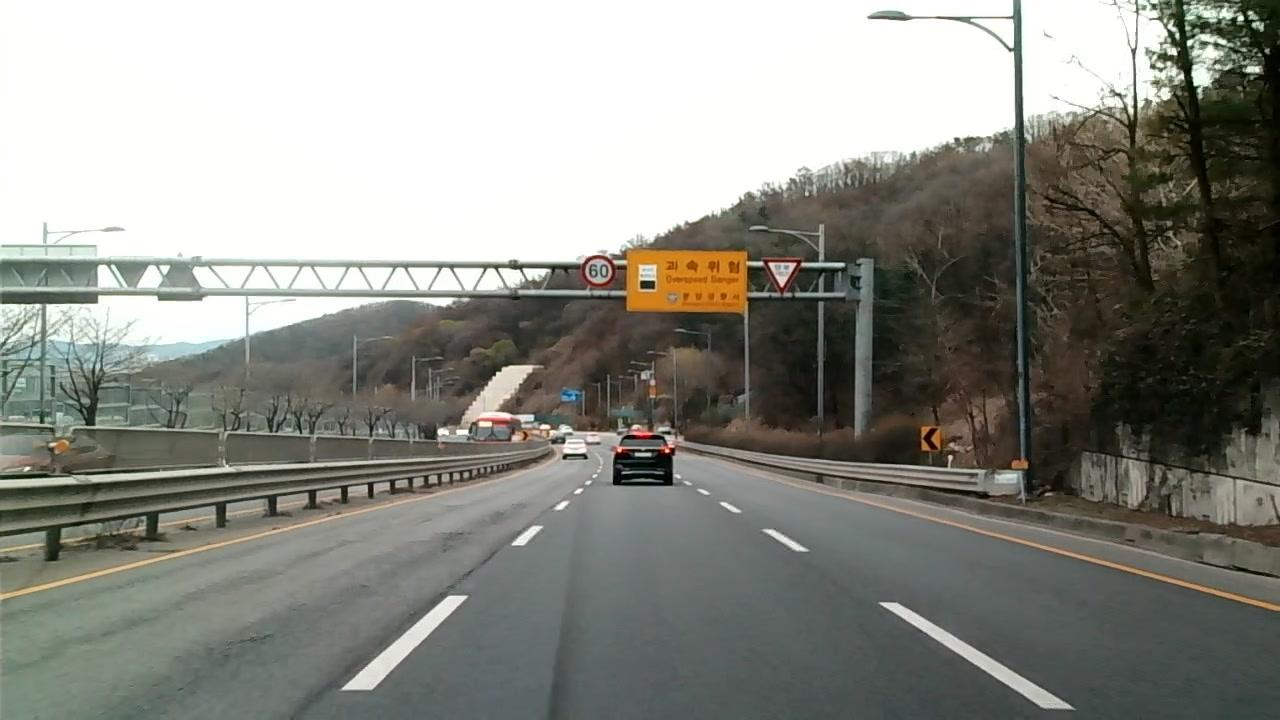banner: (259, 523, 532, 720), (164, 628, 276, 693), (424, 524, 478, 559), (484, 501, 530, 526)
